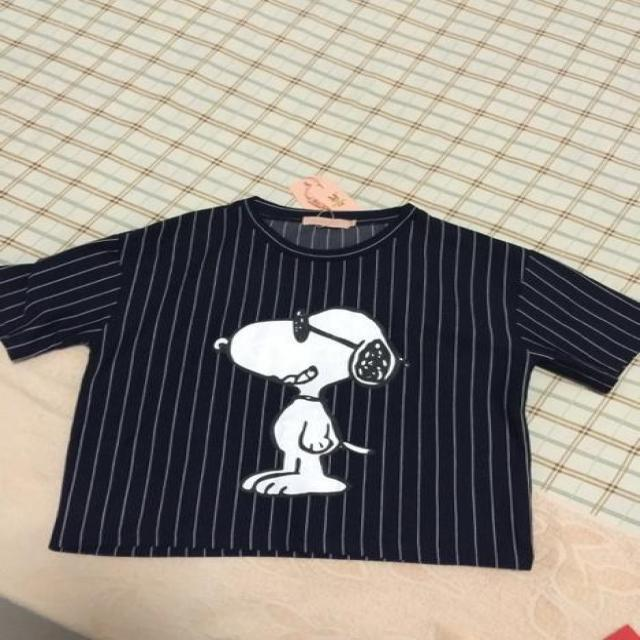short-sleeve-top: (38, 160, 640, 602)
